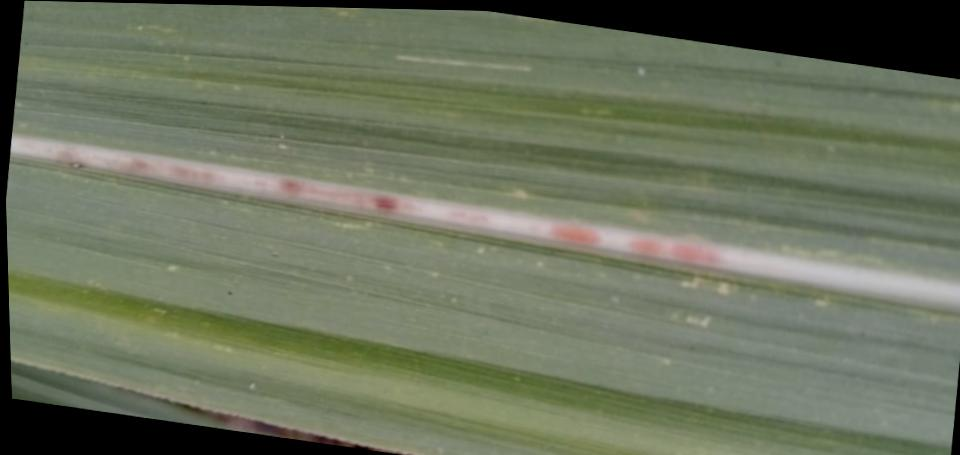RedRot: (274, 178, 422, 217), (170, 165, 219, 188), (670, 243, 720, 265), (549, 223, 599, 245), (118, 156, 153, 174), (627, 237, 661, 255), (56, 145, 85, 165), (470, 213, 489, 223), (450, 209, 468, 217)
Rust: (69, 161, 85, 170)
